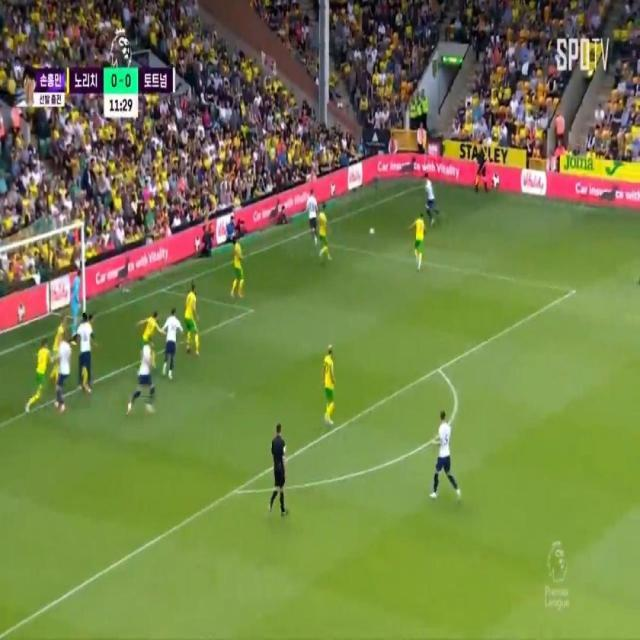ball: (367, 221, 379, 242)
goalkeeper: (69, 271, 93, 317)
player: (434, 408, 454, 510), (59, 328, 75, 421), (74, 317, 94, 385), (163, 310, 181, 378), (314, 201, 331, 262), (302, 190, 323, 239), (412, 199, 426, 269), (186, 281, 199, 355), (323, 342, 335, 422), (138, 337, 149, 415), (230, 229, 243, 294), (423, 168, 438, 221), (140, 311, 160, 350), (50, 317, 64, 371), (38, 342, 47, 415)
referee: (271, 415, 284, 520), (471, 140, 491, 200)
